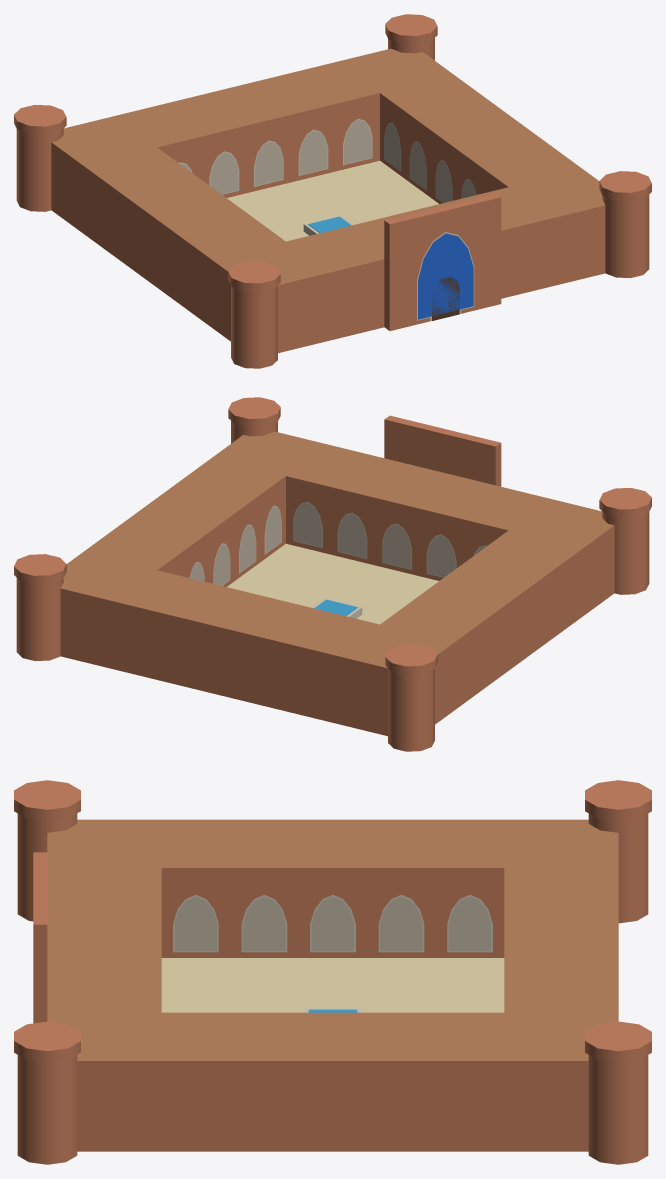
Rendered from caravanserail.glb.
3 renders of one model, top to bottom at view 1: azimuth 30°, elevation 25°; view 2: azimuth 150°, elevation 25°; view 3: azimuth 270°, elevation 25°, orthographic. The views are drawn at different scales.
Visible parts, largest first — view 1: caravanserail; view 2: caravanserail; view 3: caravanserail.
Boxes of the visible parts, bbox=[...] form: caravanserail: bbox=[14, 14, 651, 368]; caravanserail: bbox=[14, 397, 651, 751]; caravanserail: bbox=[14, 780, 651, 1164].
Size of the model in its own units: 44.93 by 11 by 44.69.
1 material, 1 textured.
